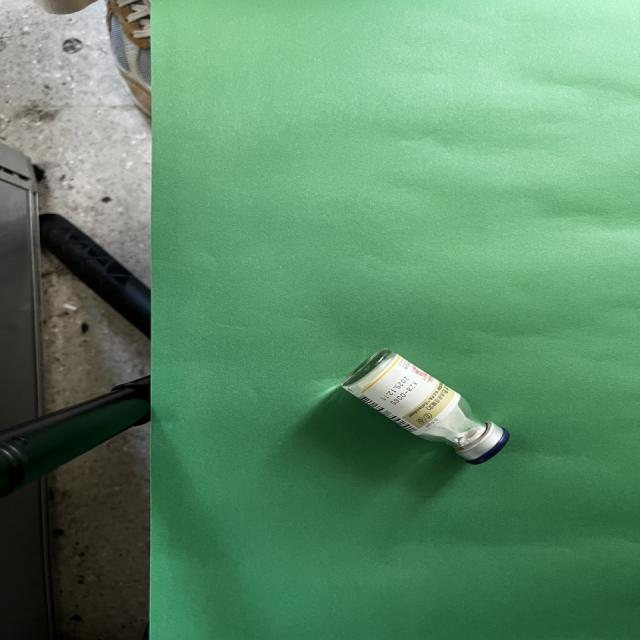Vials: (341, 348, 509, 464)
